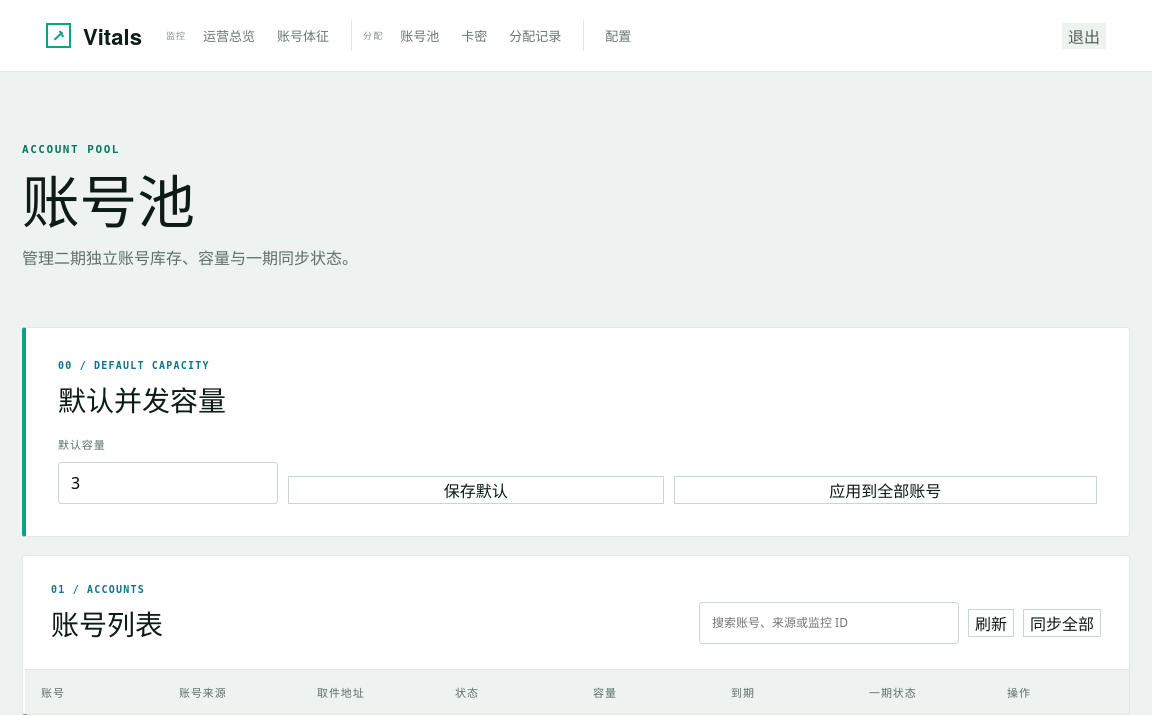
Test: P2 admin views › runs batch monitor sync from the accounts view
Step 1. Click the button "同步全部" → (1062, 623), box [1023,609,1101,637]
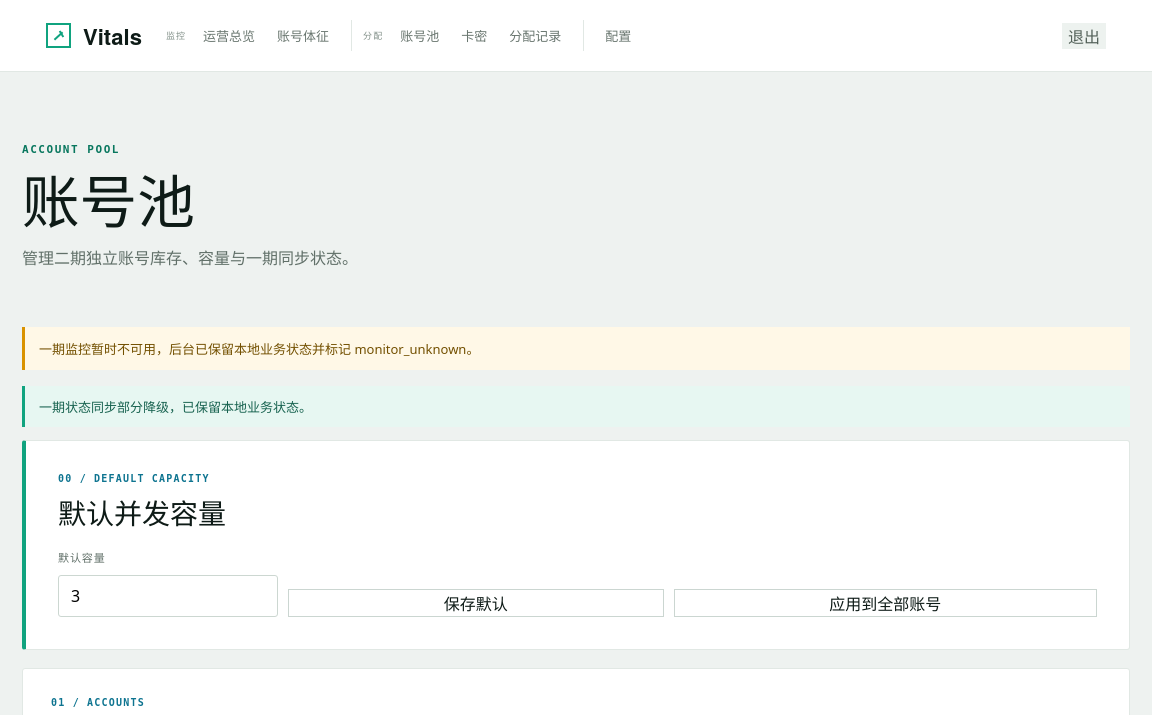
Expected: the text "一期状态同步部分降级" is shown, [39,398,312,416]
